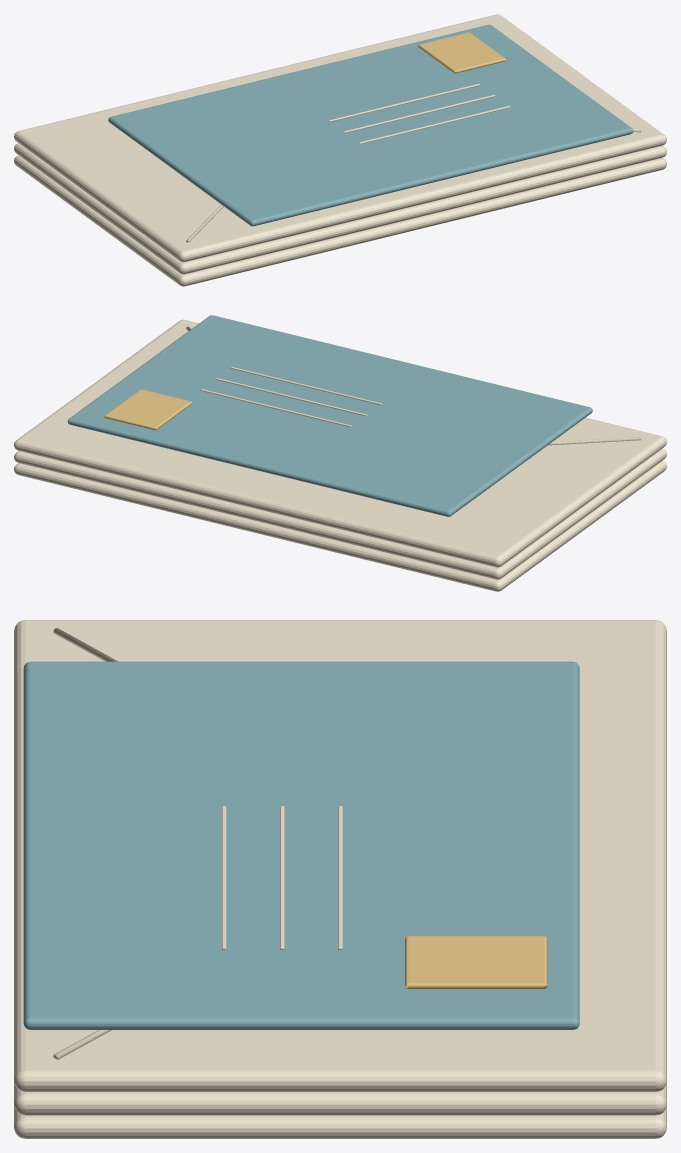
The model's file is Mail_Stack.glb.
3 renders of one model, top to bottom at view 1: azimuth 30°, elevation 25°; view 2: azimuth 150°, elevation 25°; view 3: azimuth 270°, elevation 25°, orthographic. The views are drawn at different scales.
Parts seen in each view (by area): view 1: Mail_Stack_Mesh; view 2: Mail_Stack_Mesh; view 3: Mail_Stack_Mesh.
Part boxes in pixels (left/top/right/bottom): Mail_Stack_Mesh: left=14, top=14, right=666, bottom=286; Mail_Stack_Mesh: left=14, top=315, right=666, bottom=591; Mail_Stack_Mesh: left=14, top=620, right=666, bottom=1138.
Bounding box in the file's own units: 0.168 × 0.0173 × 0.101.
